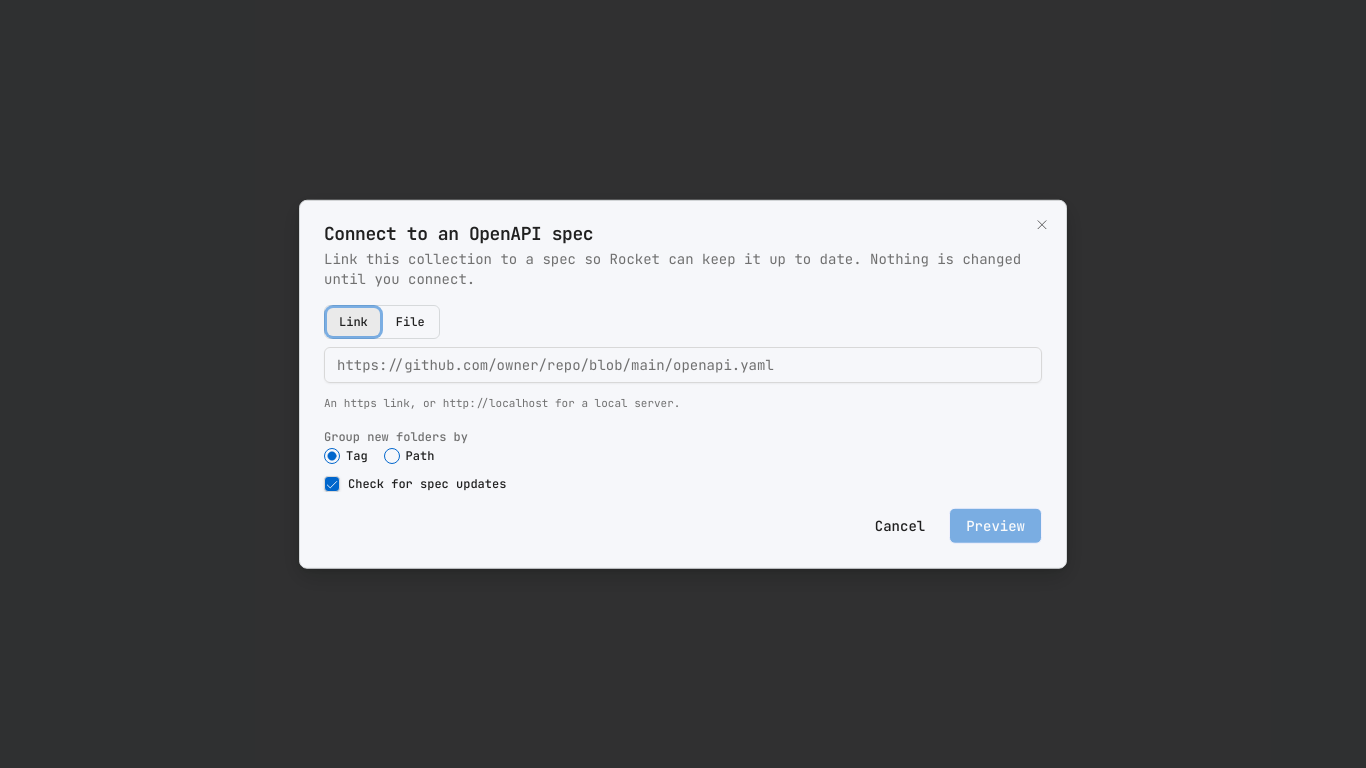
ConnectOpenApiDialog › the_token_field_shows_for_github_links_only
The image size is (1366, 768).
Expected: the field labelled "Access token" is not shown
Type "https://example.com/openapi.json" into the field named "Spec link" at (683, 365), box [324,347,1042,383]
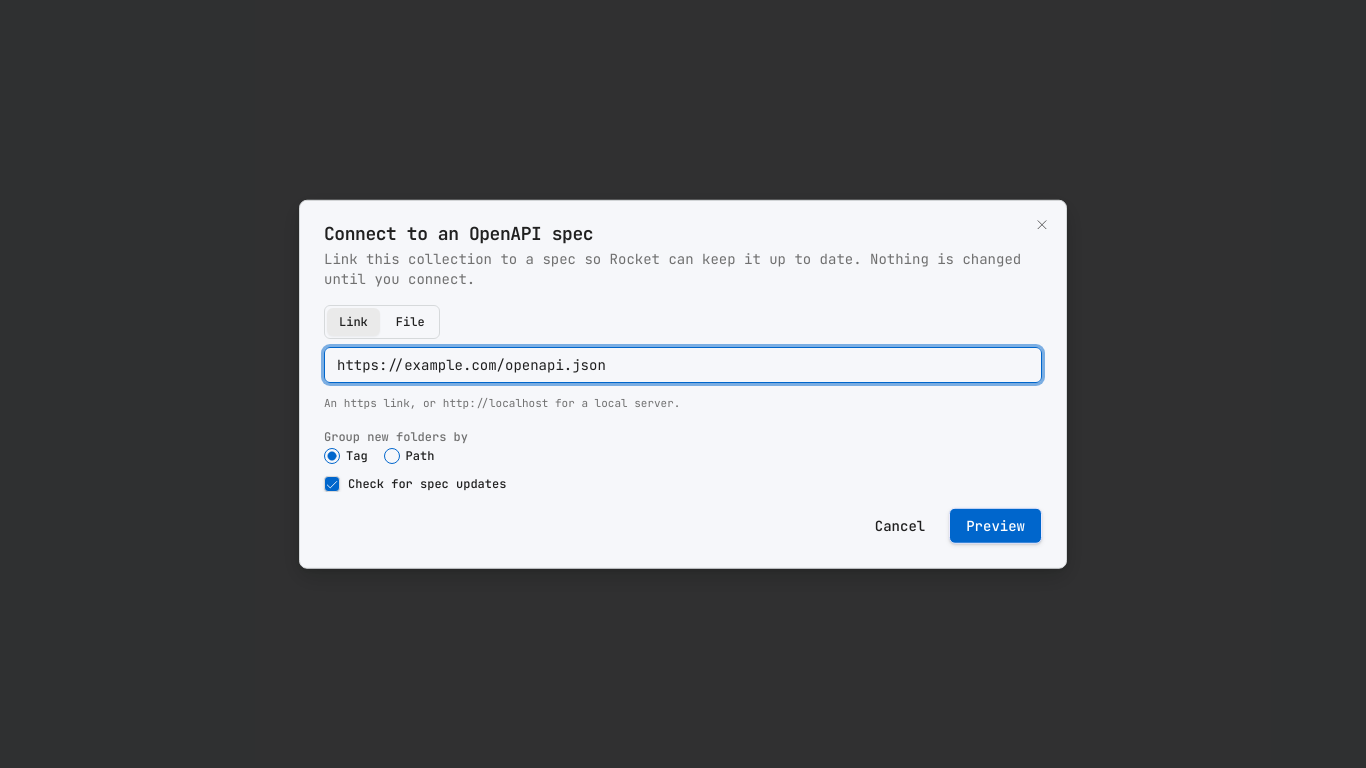
Expected: the field labelled "Access token" is not shown
Replace the text in the field named "Spec link" with "https://github.com/acme/api/blob/main/openapi.yaml" at (683, 365), box [324,347,1042,383]
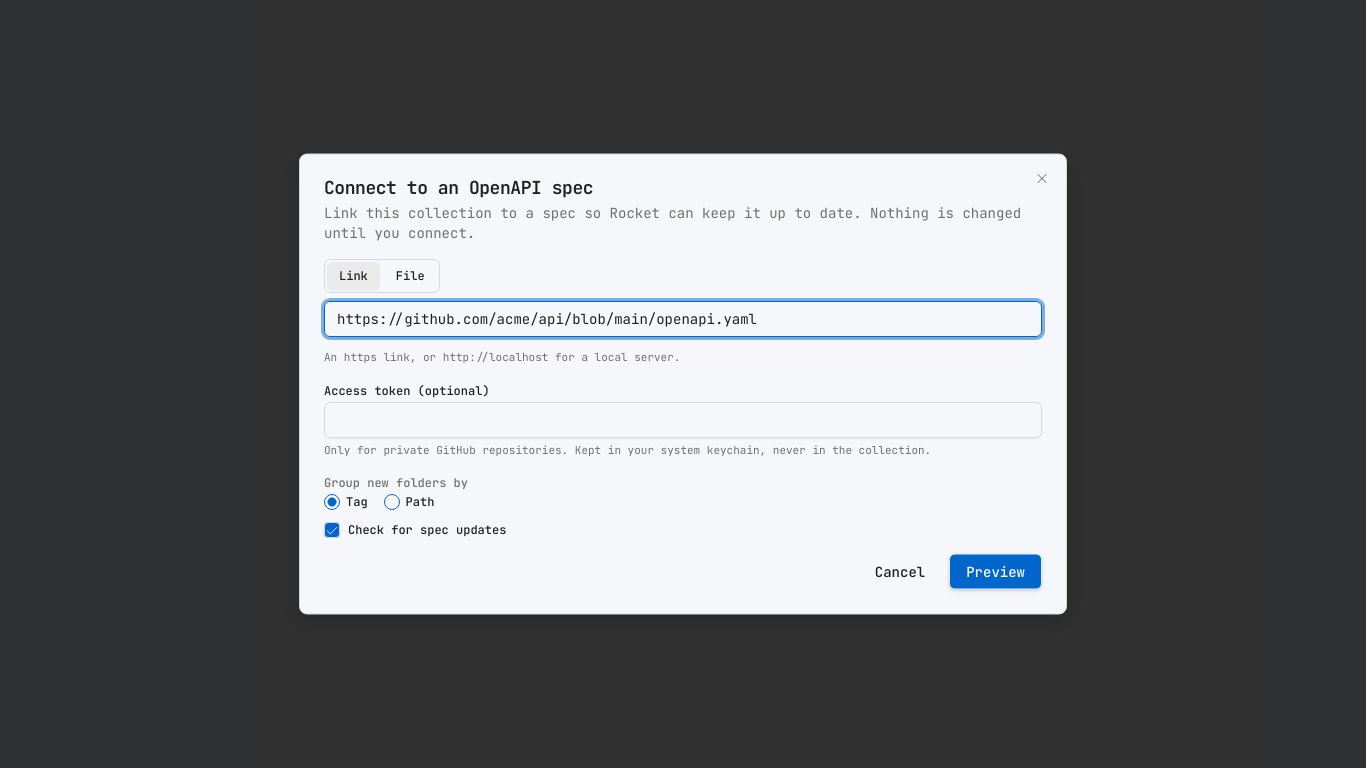
Result: the password field labelled "Access token (optional)" is shown at [324,401,1042,437]
